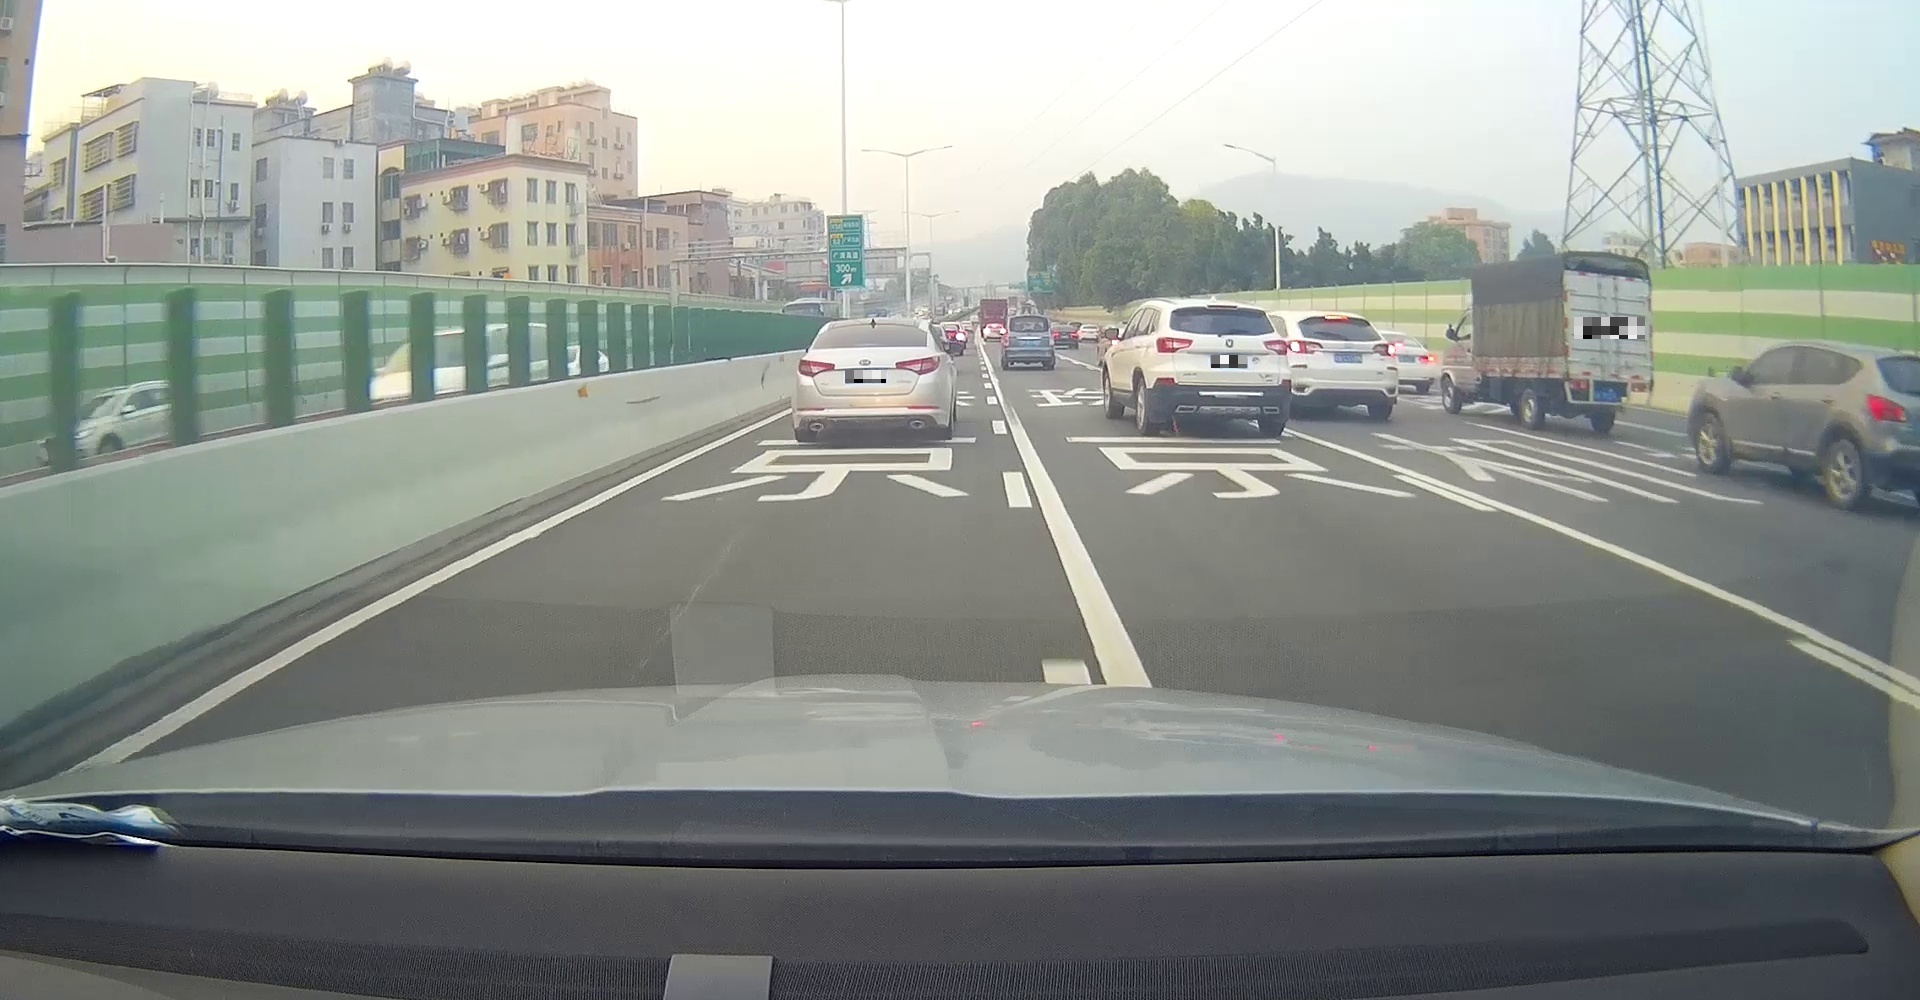L_light: (797, 358, 836, 376), (1156, 336, 1192, 353), (1571, 378, 1589, 390)
R_light: (895, 354, 942, 376), (1262, 338, 1288, 357), (1632, 383, 1650, 393)
T_light: (1206, 303, 1237, 308), (853, 341, 877, 346), (1601, 273, 1617, 277)
day-no: (1149, 299, 1291, 437), (792, 316, 947, 438), (1561, 249, 1655, 431)
plate_1: (844, 371, 886, 383)
plate_2: (1211, 355, 1247, 368)
plate_3: (1575, 317, 1644, 339)
